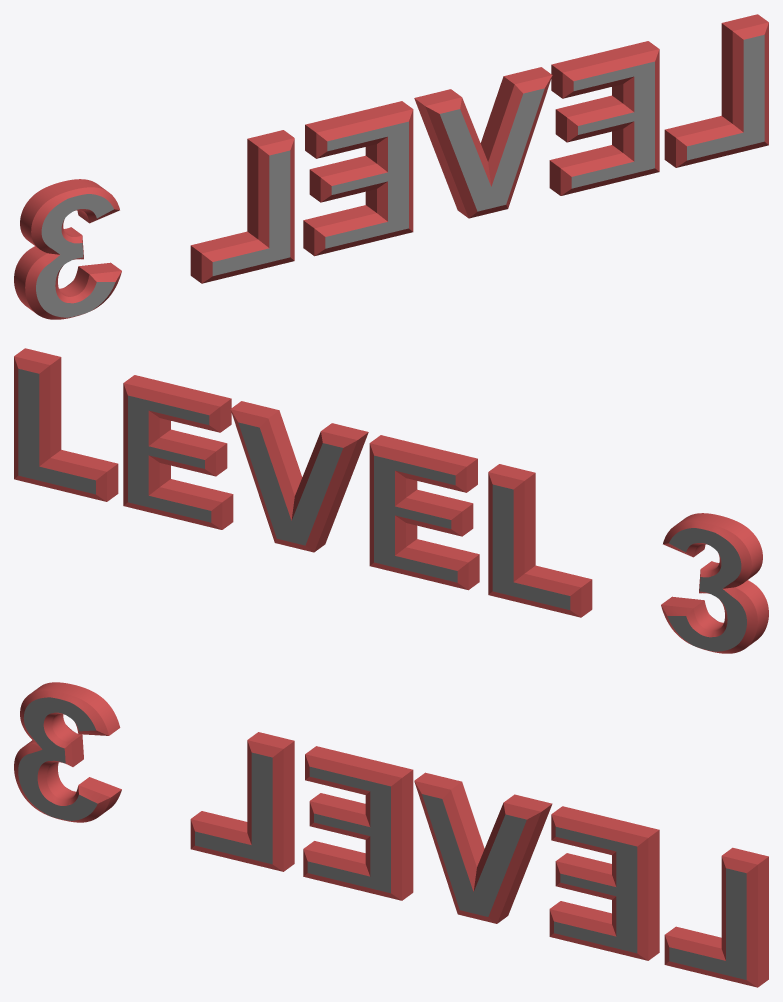
Rendered from Level3_Text.FBX.
3 views of the same model, one above another, from view 1: azimuth 30°, elevation 25°; view 2: azimuth 150°, elevation 25°; view 3: azimuth 330°, elevation 25° (orthographic).
Visible parts, largest first — view 1: L3Text; view 2: L3Text; view 3: L3Text.
Part boxes in pixels (x1,y1,x2,y2): L3Text: [14, 14, 768, 319]; L3Text: [14, 348, 768, 653]; L3Text: [14, 682, 768, 987].
Size of the model in its own units: 950 by 156 by 39.42.
